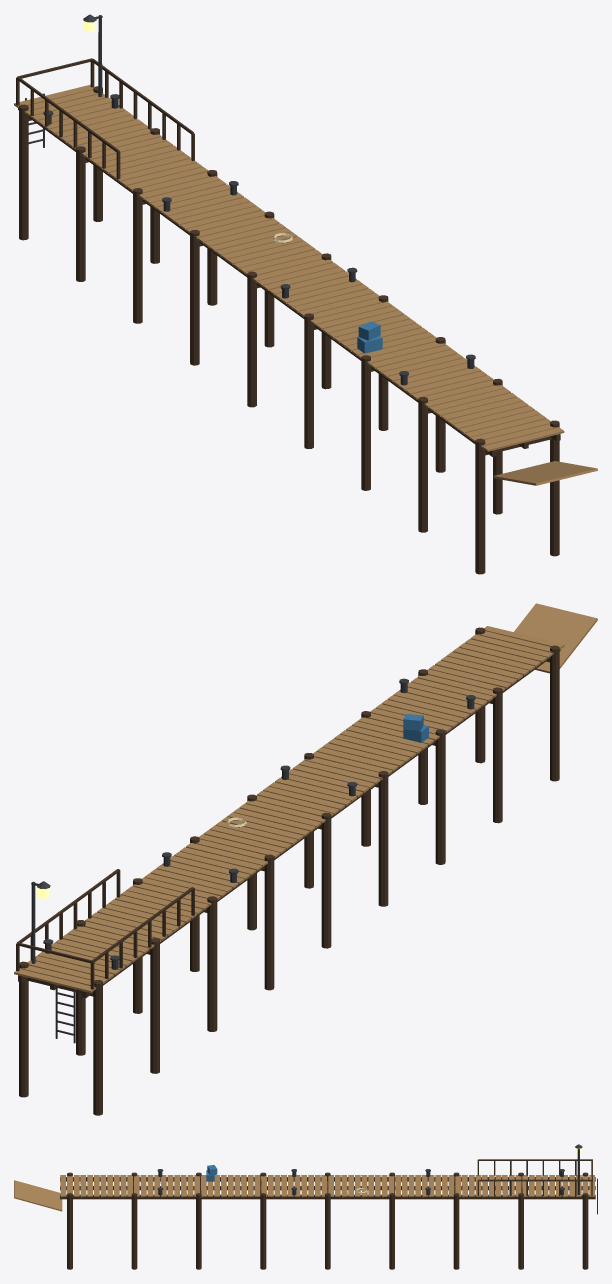
Rendered from muelle.glb.
3 views of the same model, one above another, from view 1: azimuth 30°, elevation 25°; view 2: azimuth 150°, elevation 25°; view 3: azimuth 270°, elevation 25° (orthographic). The views are drawn at different scales.
Visible parts, largest first — view 1: muelle; view 2: muelle; view 3: muelle.
Boxes of the visible parts, x1,y1,x2,y2 form: muelle: (14, 14, 597, 574); muelle: (14, 603, 597, 1115); muelle: (14, 1144, 597, 1269).
Bounding box in the file's own units: 3.24 × 7.93 × 34.89.
